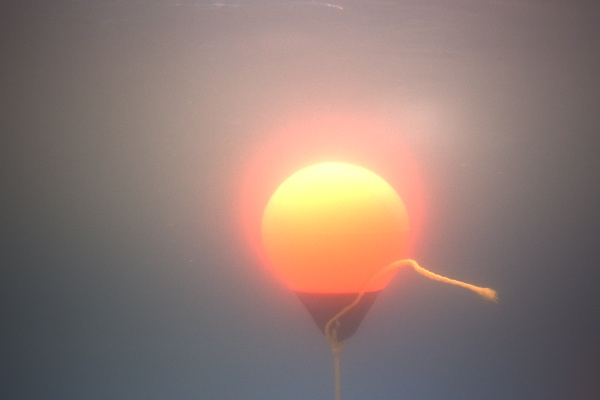buoy: (484, 96, 572, 200)
